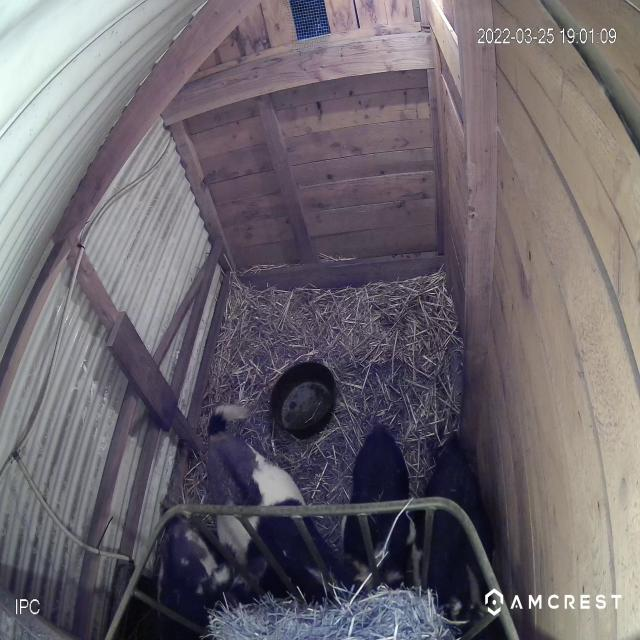goat: (181, 408, 342, 604), (424, 413, 490, 632), (347, 421, 427, 593), (150, 509, 237, 623)
